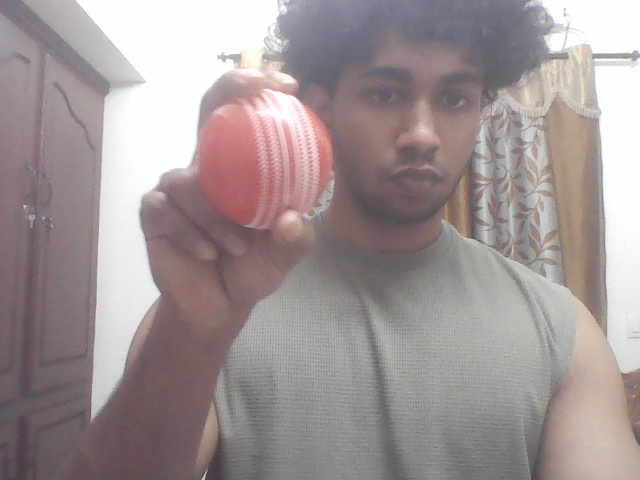cricket_ball: (197, 82, 337, 238)
